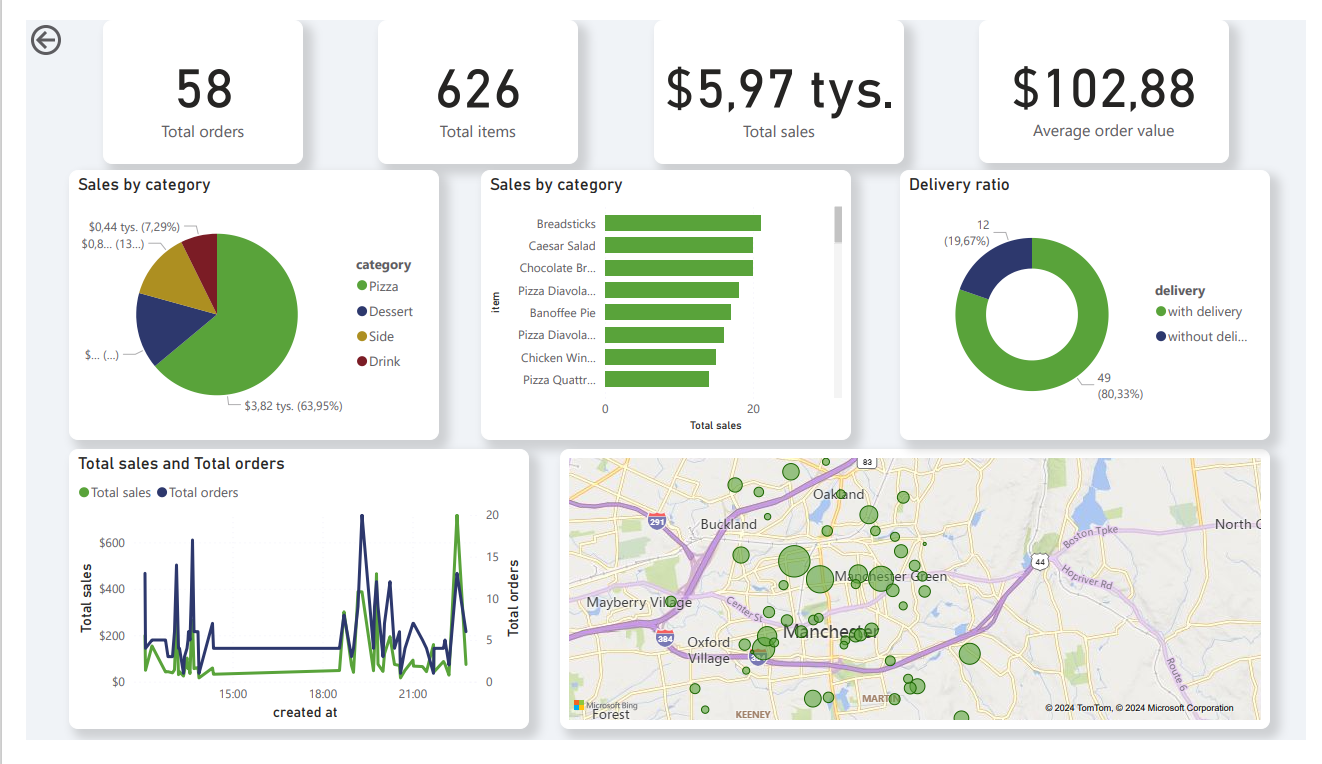

Layout of this report page (visuals, bound fields, positions):
{"tool":"powerbi","page":{"name":"Dashboard1","canvas":[1280,720],"ordinal":0},"visuals":[{"type":"card","fields":{"Values":["Count(DASHBOARD1.order_id)"]},"box":[77,0,200,143.6],"z":0},{"type":"actionButton","box":[0,0,100,40],"z":1000},{"type":"card","fields":{"Values":["Sum(DASHBOARD1.total_sales)"]},"box":[628,0,250,143.6],"z":2000},{"type":"card","fields":{"Values":["Sum(DASHBOARD1.quantity)"]},"box":[352,0,200,143.6],"z":3000},{"type":"card","fields":{"Values":["Avg(DASHBOARD1.average_order_price)"]},"box":[953,0,250,142.7],"z":4000},{"type":"pieChart","title":"Sales by category","fields":{"Y":["Sum(DASHBOARD1.total_sales)"],"Category":["DASHBOARD1.item_cat"]},"box":[43,150,370,270],"z":5000},{"type":"barChart","title":"Sales by category","fields":{"Category":["DASHBOARD1.item_name"],"Y":["CountNonNull(DASHBOARD1.total_sales)"]},"box":[455,150,370,270],"z":6000},{"type":"lineChart","title":"Total sales and Total orders","fields":{"Y":["Sum(DASHBOARD1.total_sales)"],"Category":["DASHBOARD1.created_at"],"Y2":["CountNonNull(DASHBOARD1.order_id)"]},"box":[42.7,429.1,460,280],"z":7000},{"type":"map","fields":{"Category":["DASHBOARD1.full_address"],"Size":["Sum(DASHBOARD1.total_sales)"]},"box":[534,429.1,710,280],"z":8000},{"type":"donutChart","title":"Delivery ratio","fields":{"Category":["DASHBOARD1.delivery"],"Y":["Count(DASHBOARD1.order_id)"]},"box":[873.6,150,370,270],"z":9000}]}

Visuals, with their boxes in screenshot pixels (x1, y1, x2, y2), scaled from the page's 1280x720 canvas onto the 1322x764 screenshot:
card - Count(DASHBOARD1.order_id): left=80, top=0, right=286, bottom=152
actionButton: left=0, top=0, right=103, bottom=42
card - Sum(DASHBOARD1.total_sales): left=649, top=0, right=907, bottom=152
card - Sum(DASHBOARD1.quantity): left=364, top=0, right=570, bottom=152
card - Avg(DASHBOARD1.average_order_price): left=984, top=0, right=1242, bottom=151
"Sales by category" pieChart: left=44, top=159, right=427, bottom=446
"Sales by category" barChart: left=470, top=159, right=852, bottom=446
"Total sales and Total orders" lineChart: left=44, top=455, right=519, bottom=752
map - DASHBOARD1.full_address x Sum(DASHBOARD1.total_sales): left=552, top=455, right=1285, bottom=752
"Delivery ratio" donutChart: left=902, top=159, right=1284, bottom=446
